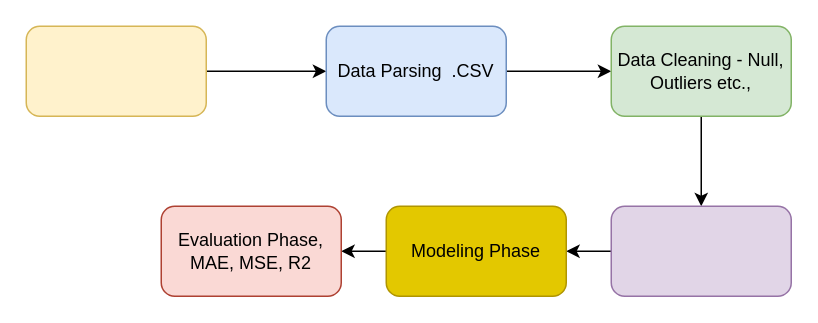
Image size: 818x323. Some labels were removed from this diagram. The shapes that lost their labels are listed below. From the top down, each one's centre as x and y in pixels, then its label:
[115,70]: DrugBank Dataset - REST API . XML
[700,250]: Data Processing
